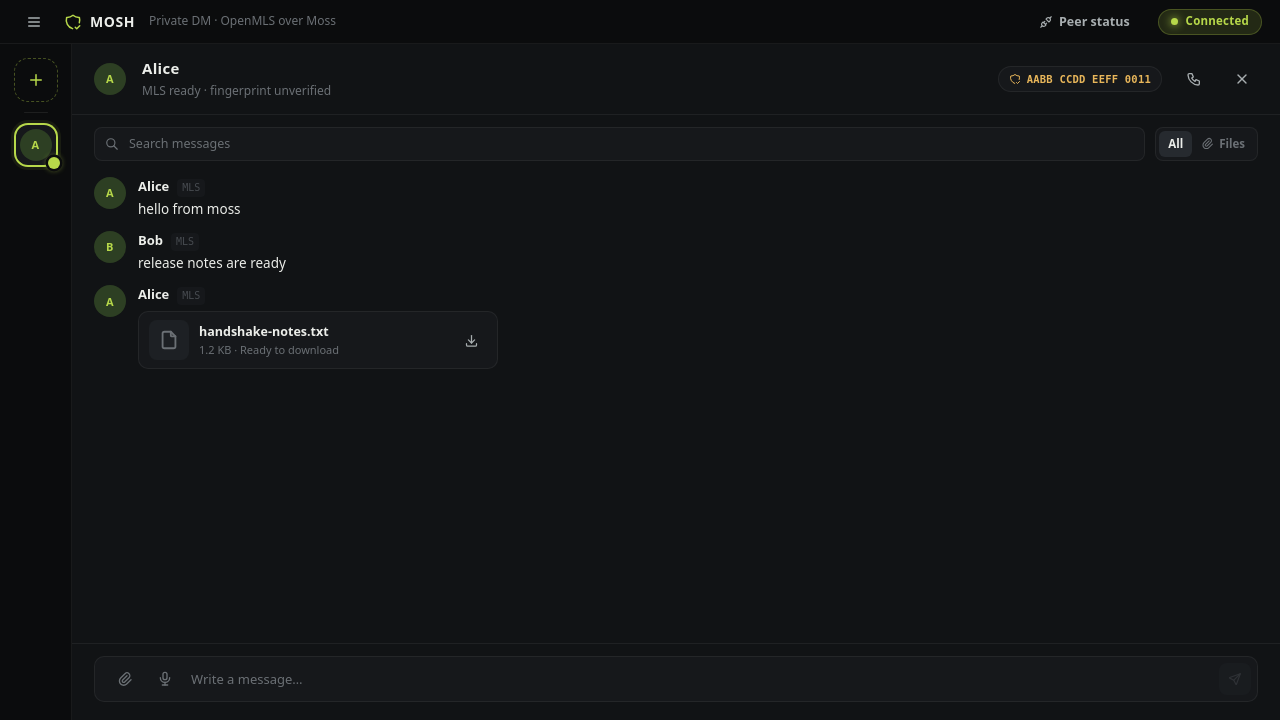
Test case: PrivateDmScreen conversations › filters active messages by text and attachments
Expected: the text "release notes are ready" is shown, x1=138 y1=254 x2=286 y2=272
Type "release" into the field labelled "Search messages" at (631, 144), box x1=127 y1=134 x2=1134 y2=154
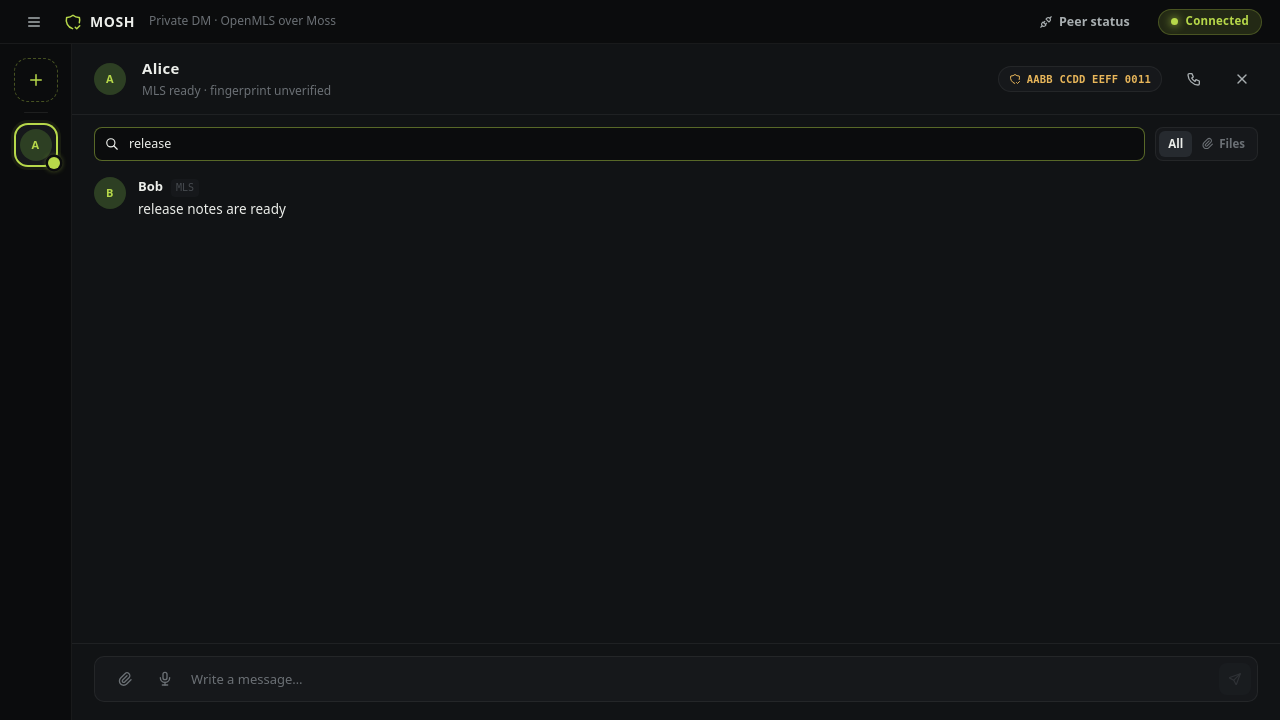
Expected: the text "release notes are ready" is shown, x1=138 y1=200 x2=286 y2=218
Expected: the text "hello from moss" is gone
Clear the field named "Search messages" at (631, 144), box x1=127 y1=134 x2=1134 y2=154
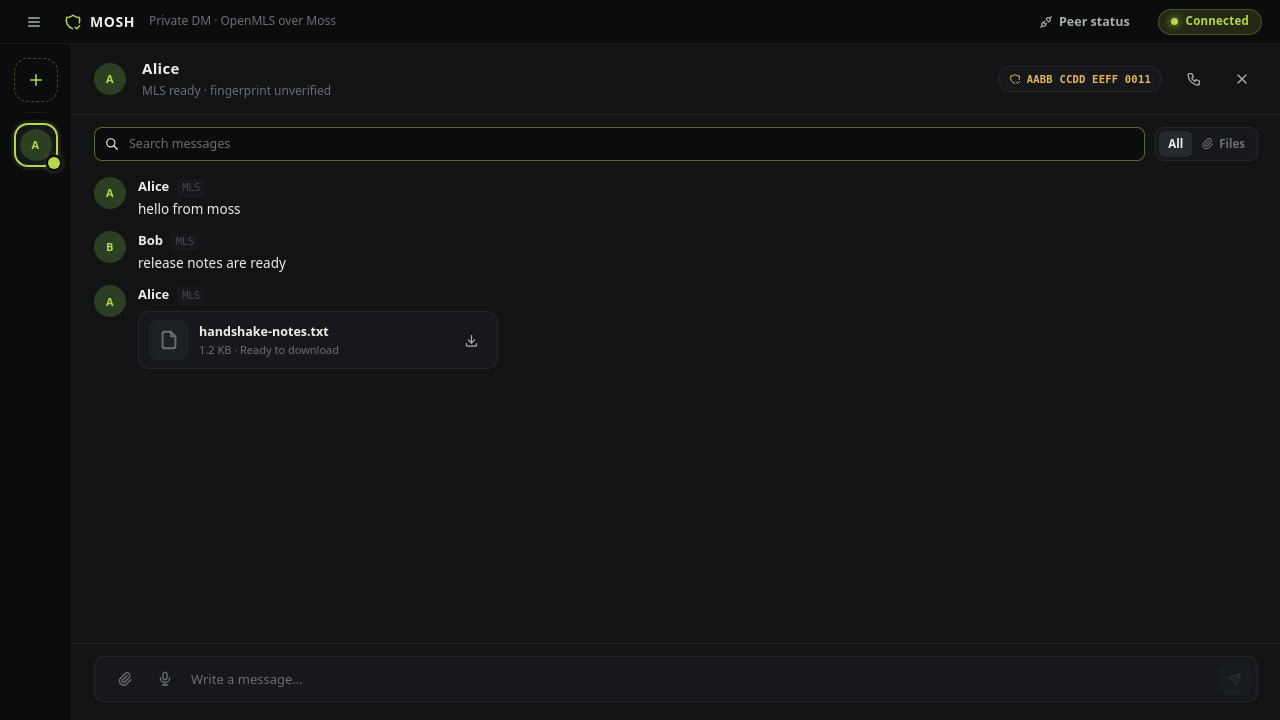
Click the button "Files" at (1223, 144), box x1=1192 y1=131 x2=1254 y2=157
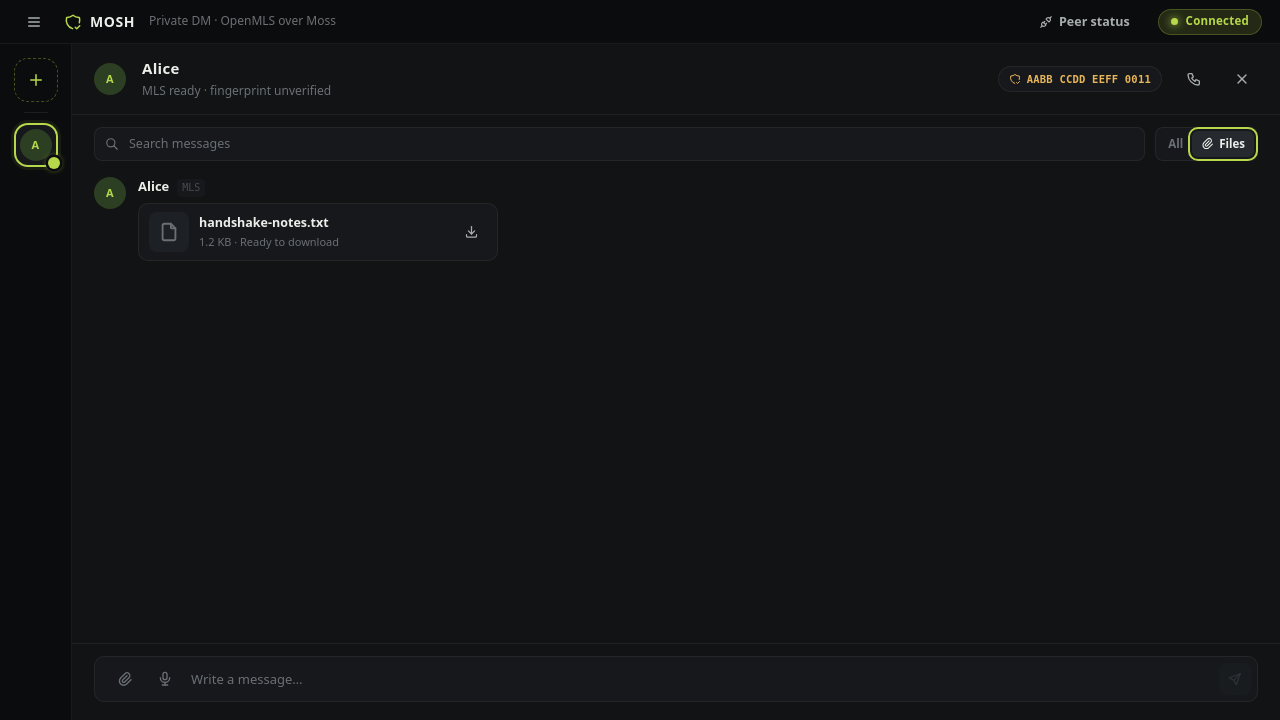
Expected: the text "handshake-notes.txt" is shown, x1=199 y1=214 x2=329 y2=231
Expected: the text "release notes are ready" is gone
